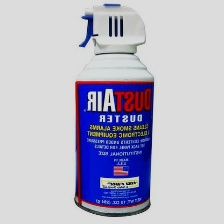cleaning_solution: (70, 0, 158, 220)
